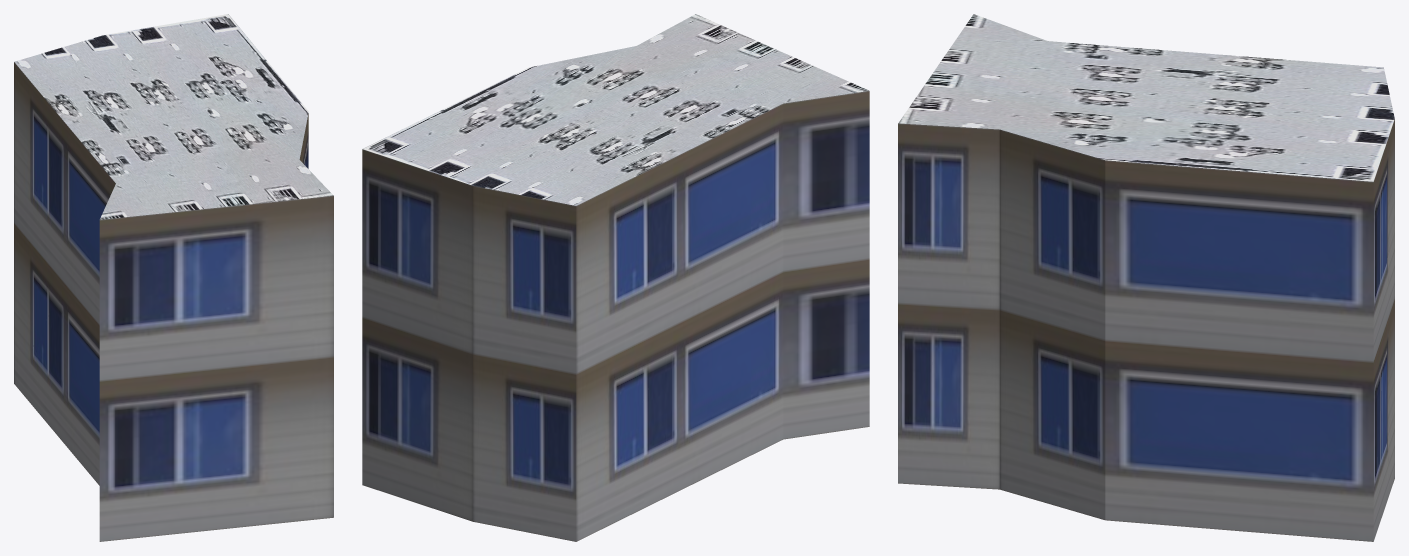
Rendered from ResTex__394.fbx.
The picture shows the model from 3 angles, left to right: view 1: azimuth 30°, elevation 25°; view 2: azimuth 150°, elevation 25°; view 3: azimuth 270°, elevation 25°; orthographic projection. The views are drawn at different scales.
Parts seen in each view (by area): view 1: CityEngineMaterial_23_m, CityEngineMaterial_m; view 2: CityEngineMaterial_23_m, CityEngineMaterial_m; view 3: CityEngineMaterial_23_m, CityEngineMaterial_m.
Boxes of the visible parts, x1=… form: CityEngineMaterial_23_m: x1=14, y1=62, x2=333, y2=541; CityEngineMaterial_m: x1=14, y1=14, x2=333, y2=219; CityEngineMaterial_23_m: x1=362, y1=91, x2=869, y2=541; CityEngineMaterial_m: x1=362, y1=14, x2=869, y2=205; CityEngineMaterial_23_m: x1=898, y1=119, x2=1394, y2=541; CityEngineMaterial_m: x1=898, y1=14, x2=1394, y2=181.
Size of the model in its own units: 6 by 6 by 7.5.
2 materials, 2 textured.
